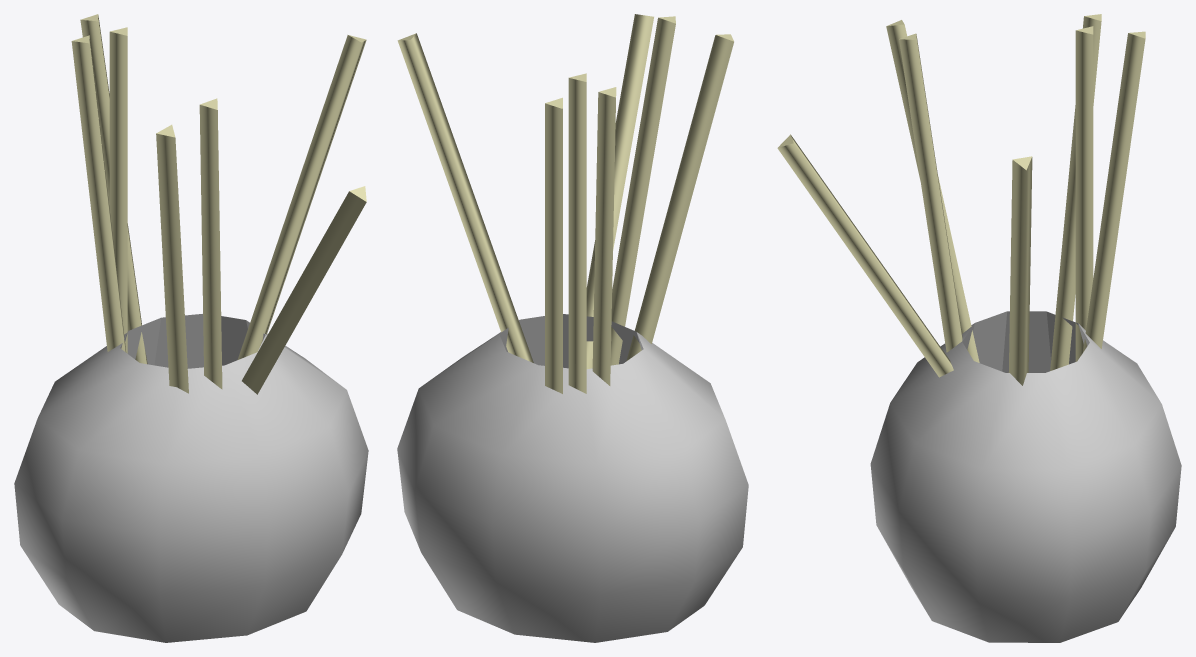
Rendered from ScentedSticks_01.fbx.
The picture shows the model from 3 angles, left to right: view 1: azimuth 30°, elevation 25°; view 2: azimuth 150°, elevation 25°; view 3: azimuth 270°, elevation 25°; orthographic projection.
Visible parts, largest first — view 1: Holder_01, Sticks_01; view 2: Holder_01, Sticks_01; view 3: Holder_01, Sticks_01.
Part boxes in pixels (x1,y1,x2,y2): Holder_01: (14, 314, 368, 642); Sticks_01: (71, 14, 366, 394); Holder_01: (397, 314, 748, 642); Sticks_01: (397, 14, 733, 393); Holder_01: (870, 311, 1181, 642); Sticks_01: (777, 14, 1145, 385).
Bounding box in the file's own units: 3.4 × 5.43 × 3.68.
